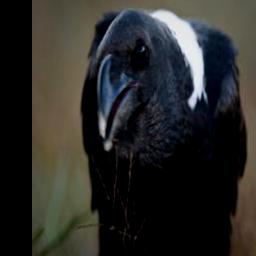Crow: (80, 5, 245, 251)
